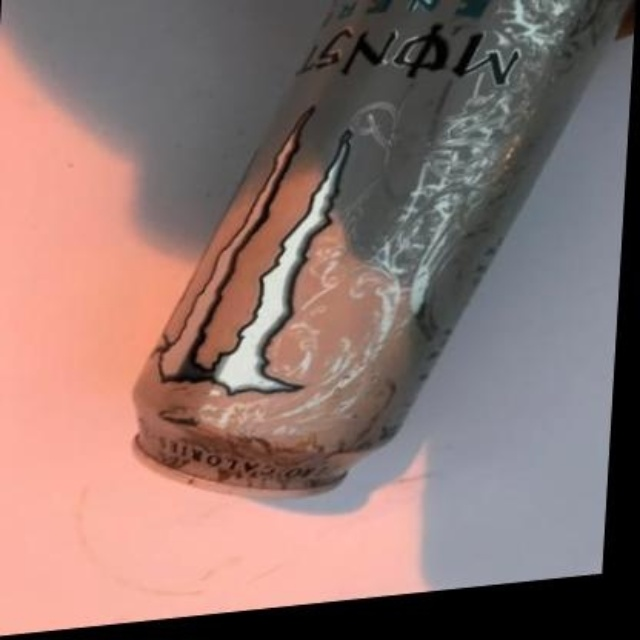trash: (134, 0, 617, 489)
